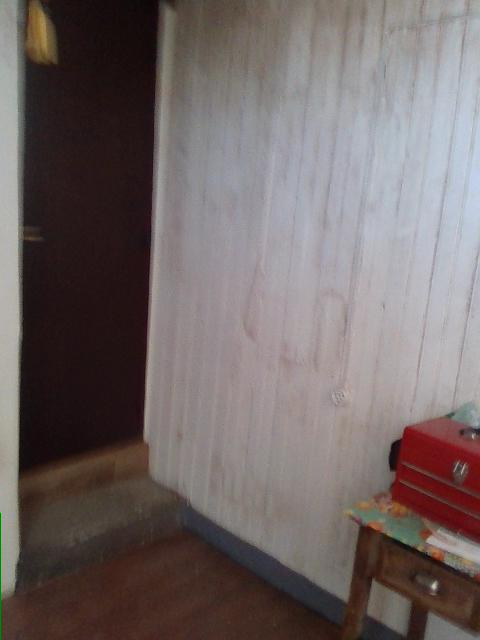door: (15, 1, 160, 475)
